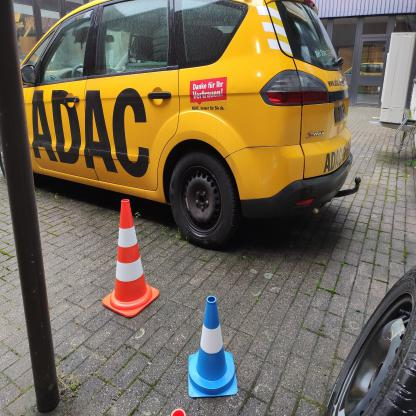Cones_big: (95, 195, 160, 324)
Cones_small_blue: (183, 292, 240, 398)
